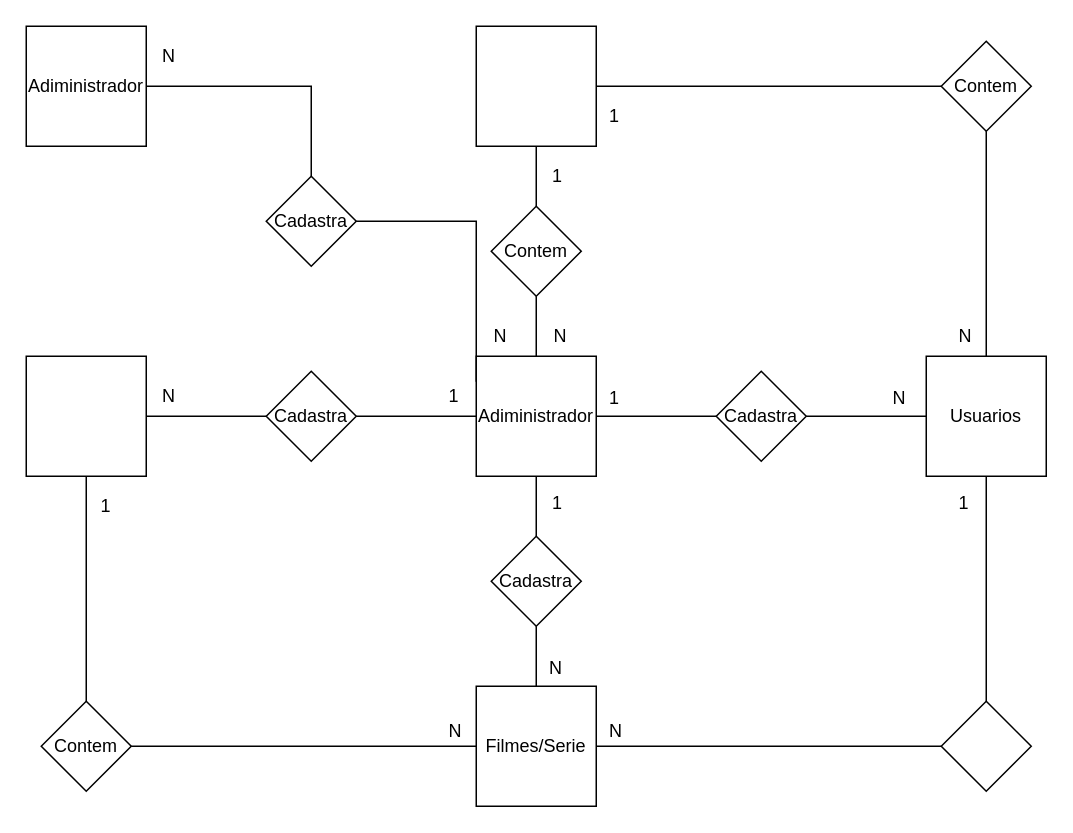
Image size: 1073x833. Some labels were removed from this diagram. The shapes that lost their labels are listed below. From the top down, each one's centre as x and y in pixels, then its label:
At (535,85): "OpFlix".
At (85,415): "Categorias".
At (985,745): "Visualiza".
